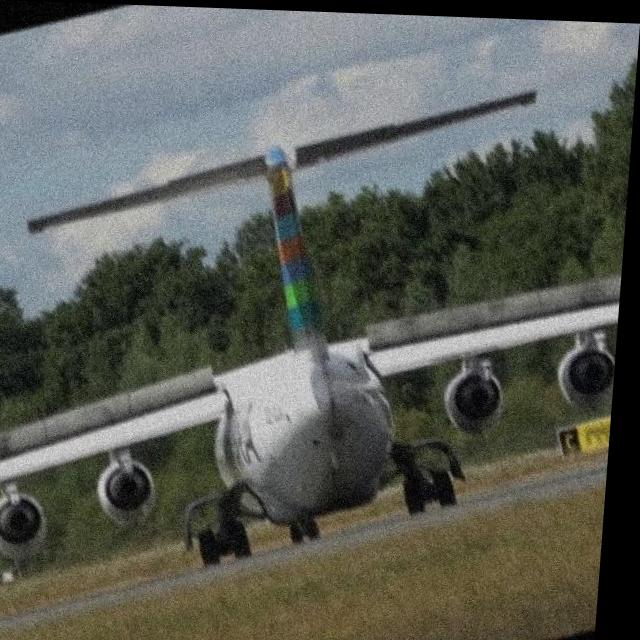airplane: (0, 68, 636, 613)
